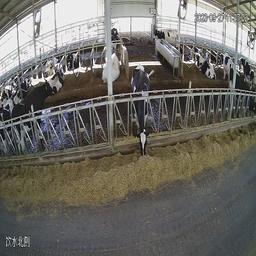cow: (10, 78, 54, 155), (129, 59, 154, 165), (229, 67, 254, 121), (192, 50, 217, 82), (101, 50, 122, 87), (44, 55, 62, 90), (152, 23, 178, 44), (64, 48, 81, 74), (220, 48, 234, 76), (111, 23, 121, 49)
